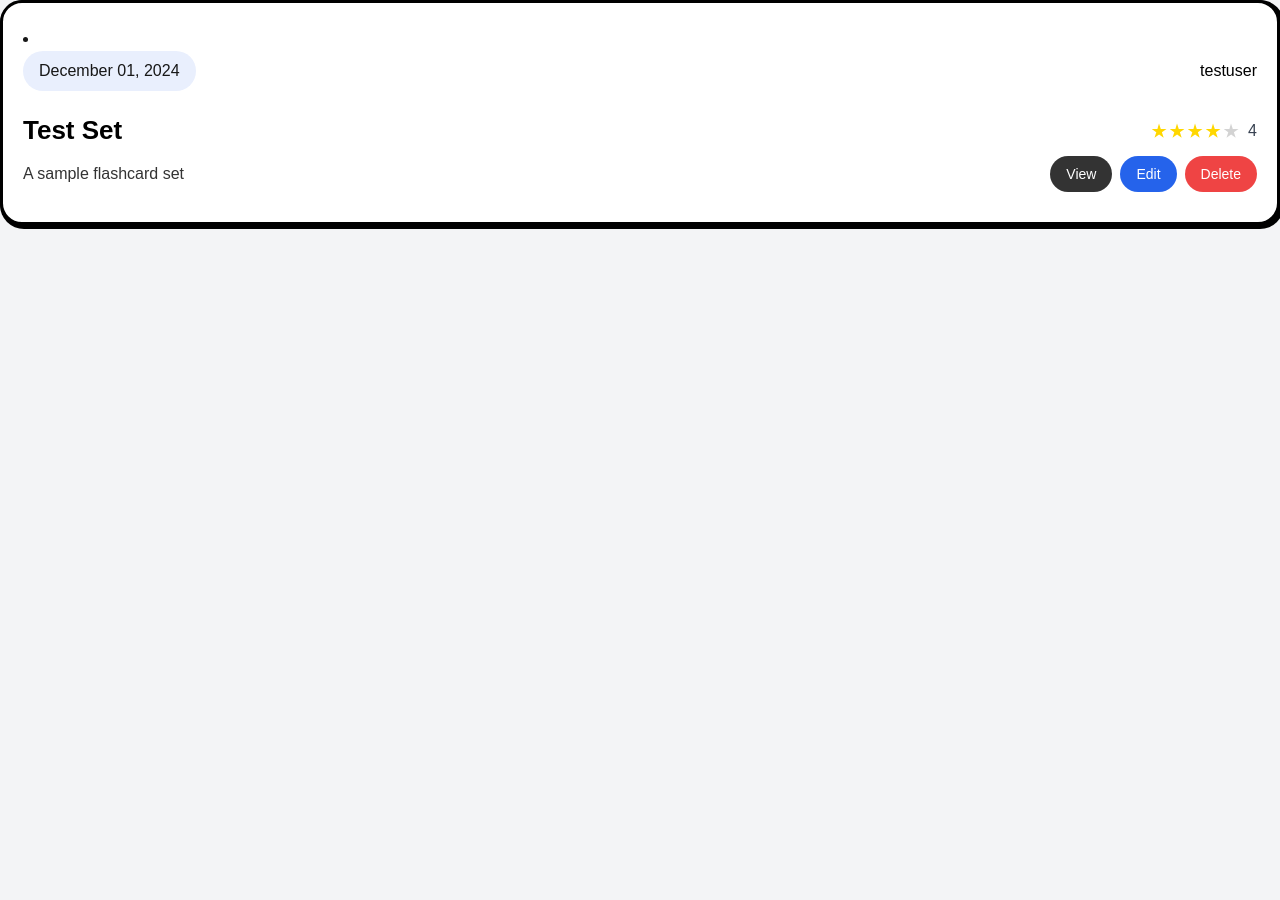
Scenario: SetPreview › closes the modal when the cancel button is clicked
Note: Click on the Delete button
Step 1. Click the button "Delete" → (1221, 174), box x1=1184 y1=156 x2=1257 y2=192
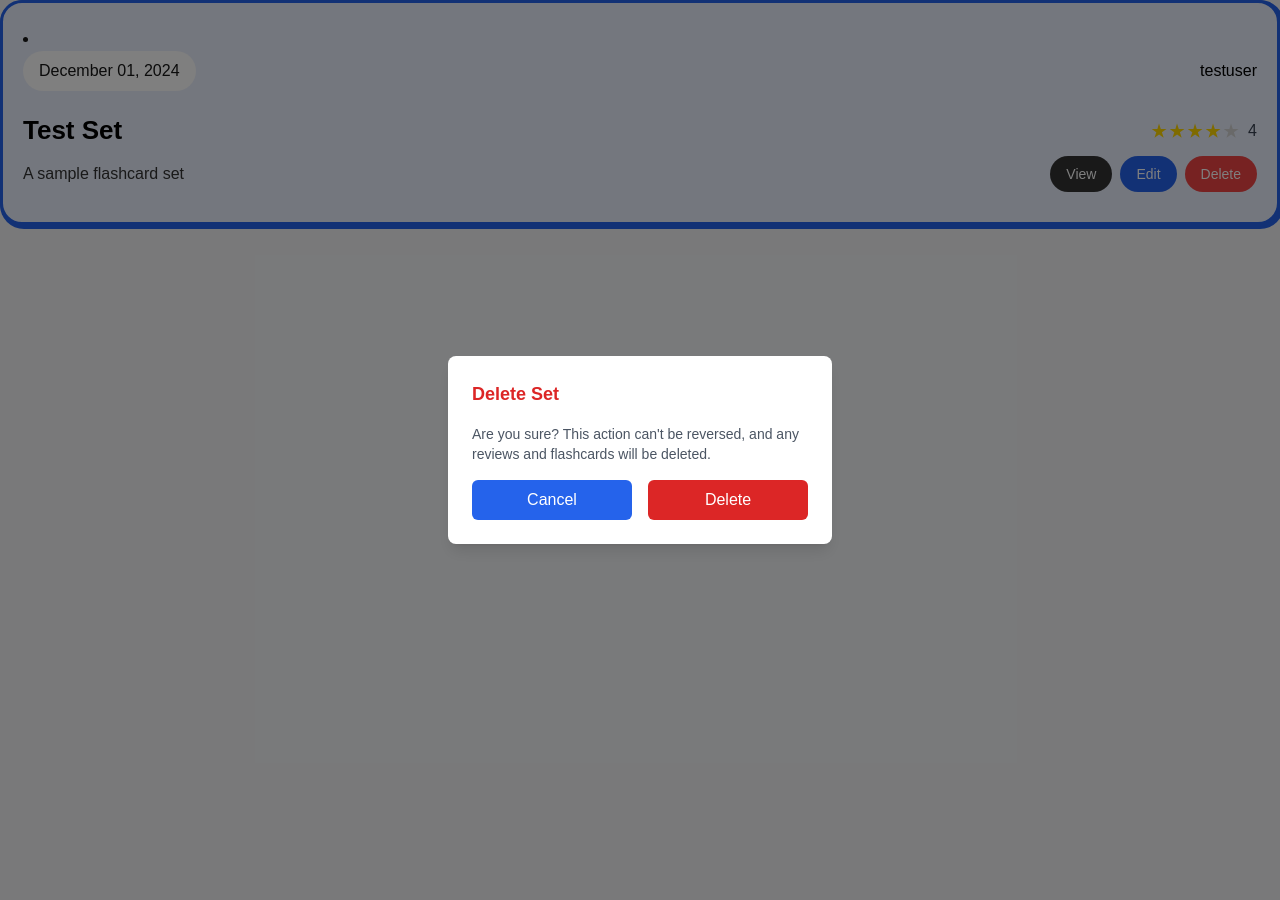
Note: Click on the Cancel button inside the modal
Step 2. Click the button "Cancel" → (552, 500), box x1=472 y1=480 x2=632 y2=520
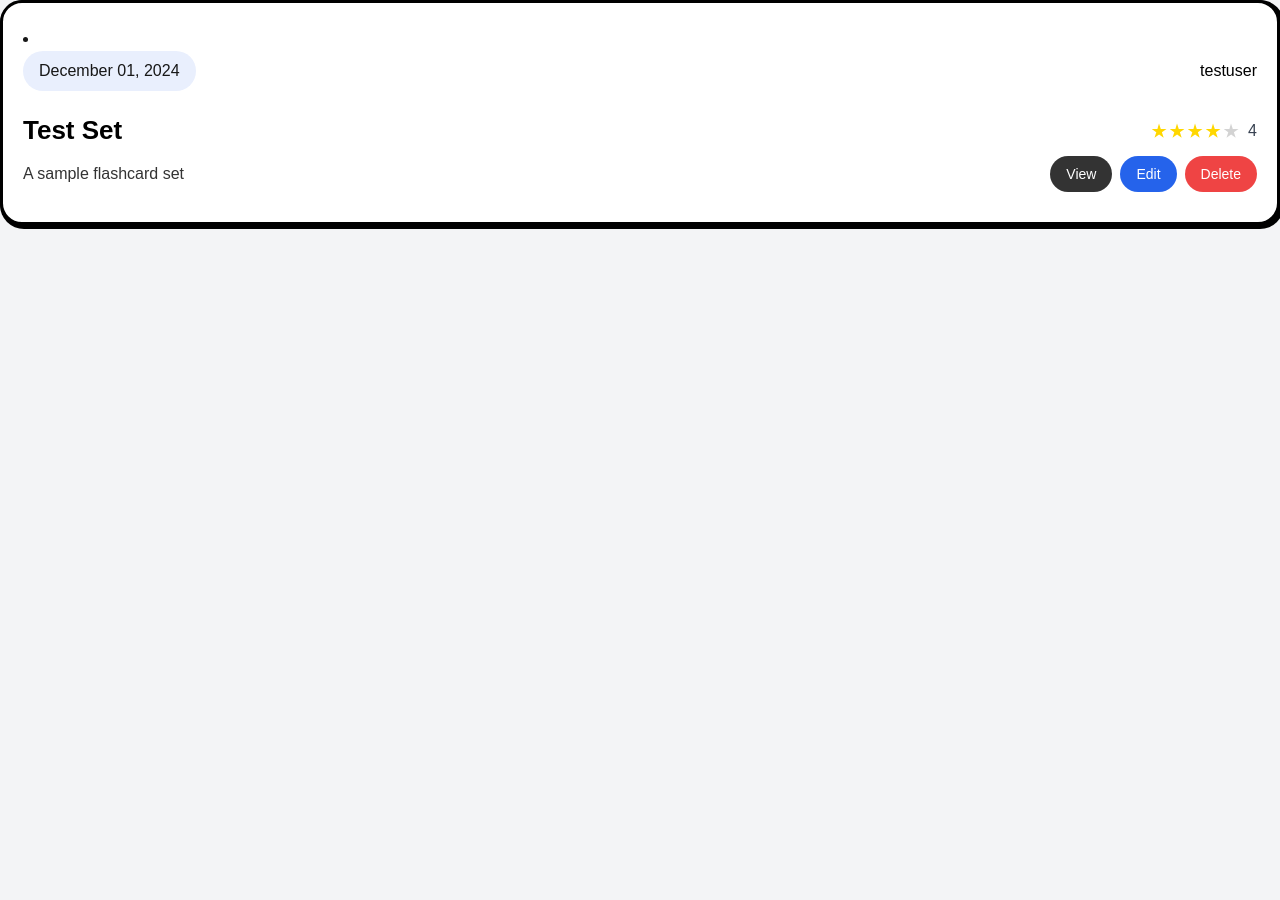
Expected: the heading "Delete Set" is gone
